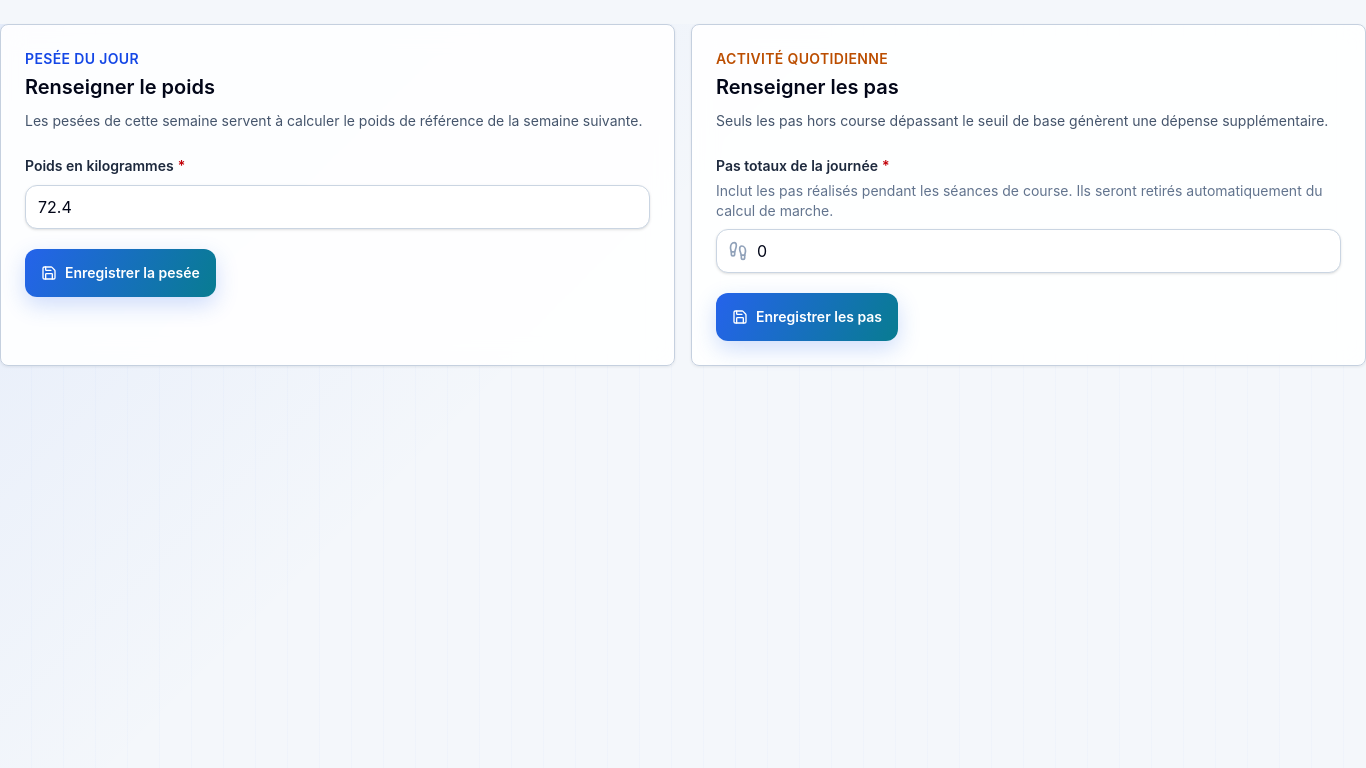
Test: DailyInputsPanel › affiche une seule erreur locale et conserve la saisie des pas
Replace the text in the number field labelled "Pas totaux de la journée*" with "7400" at (1028, 251), box [716,229,1341,273]
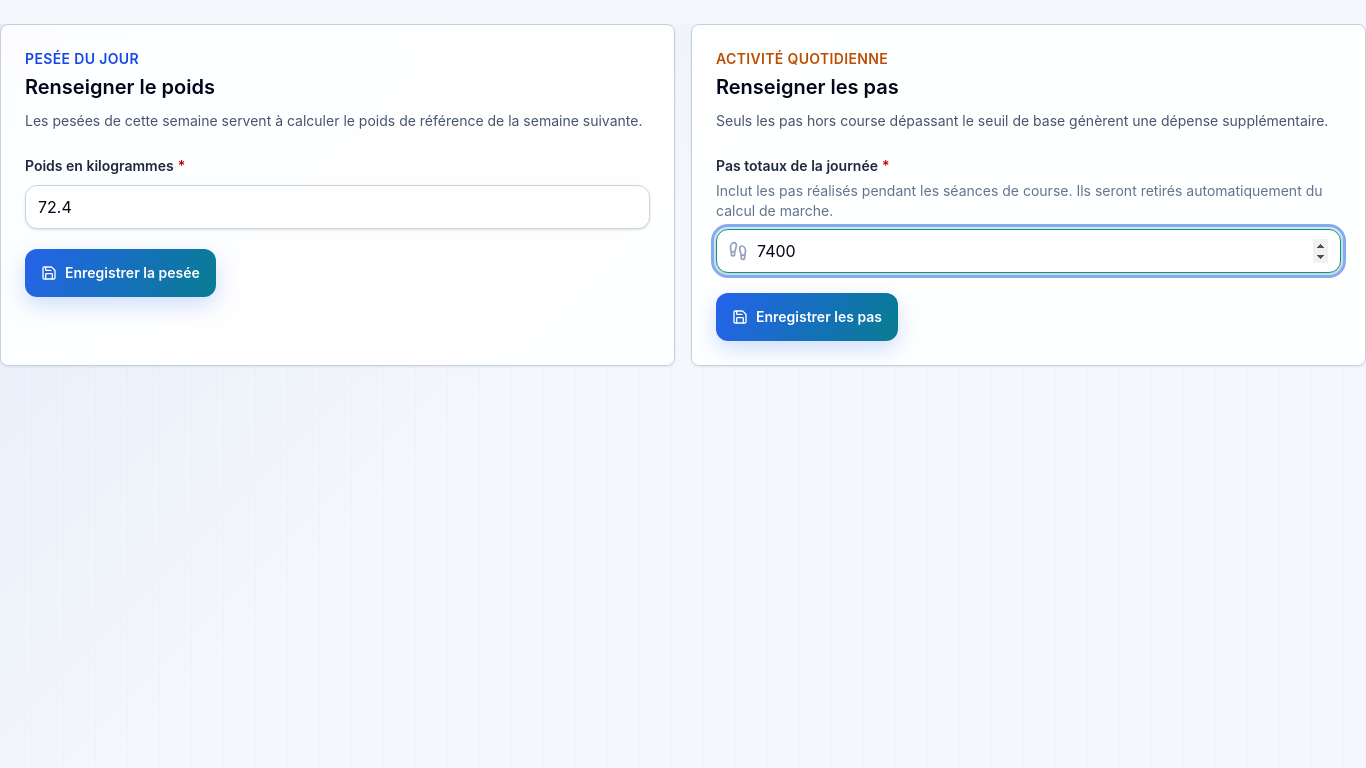
Click the button "Enregistrer les pas" at (807, 317), box [716,293,898,341]
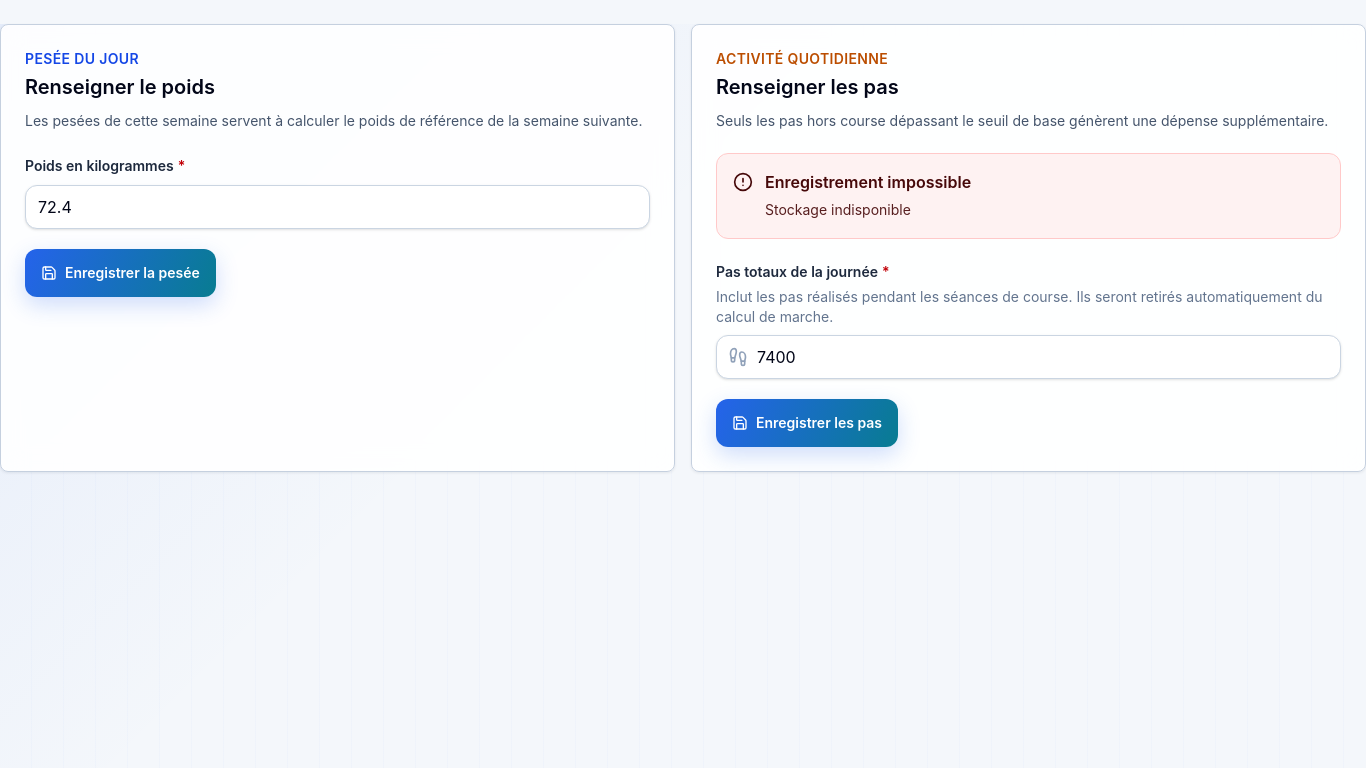
Check: the number of messages is 1, box [716,153,1341,239]
Check: the message shows "Stockage indisponible", box [765,201,911,218]
